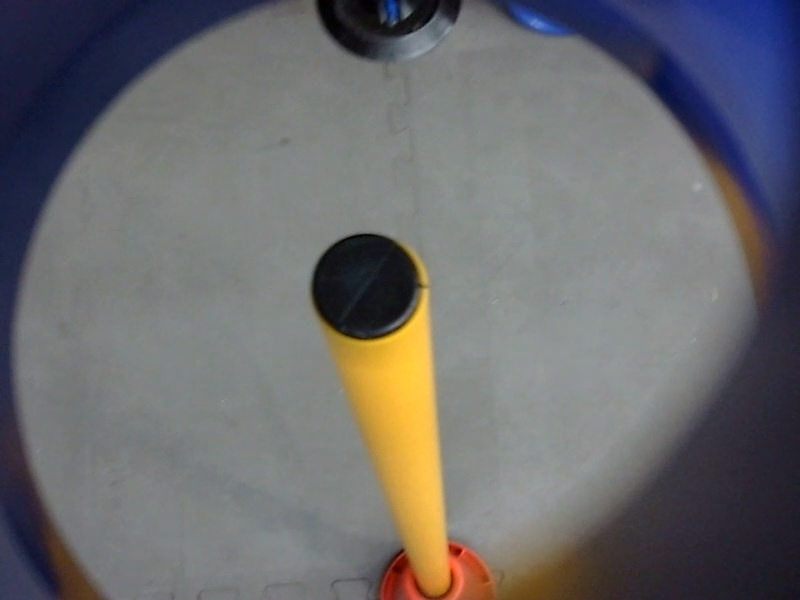tip: (304, 227, 432, 352)
